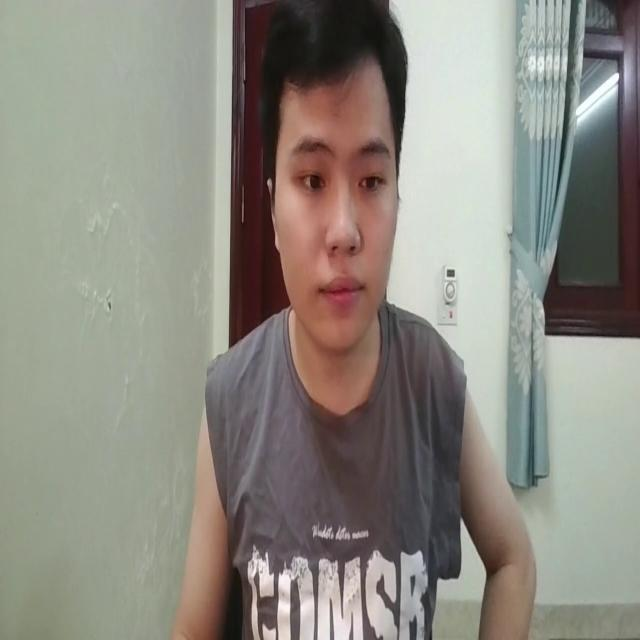student: (168, 0, 542, 640)
